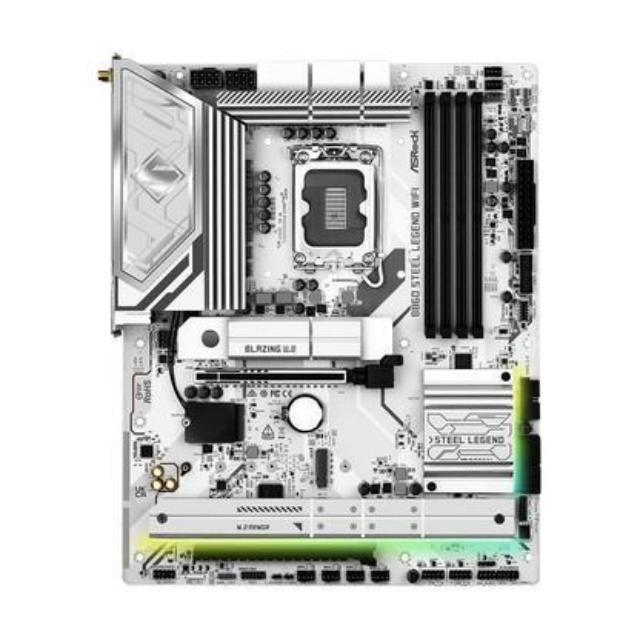Mainboard: (98, 44, 544, 592)
